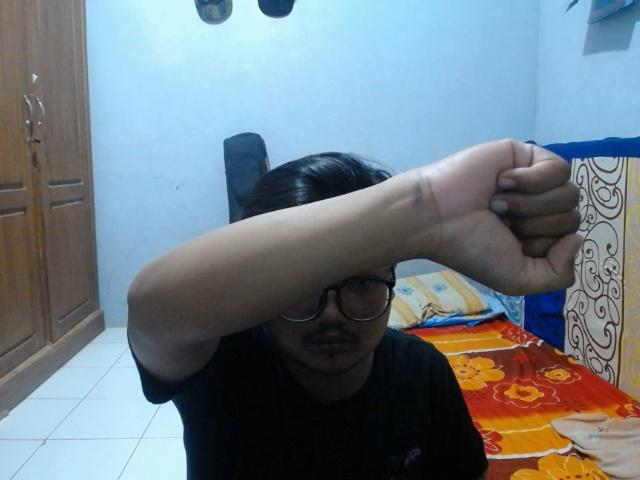Grab: (410, 126, 586, 300)
